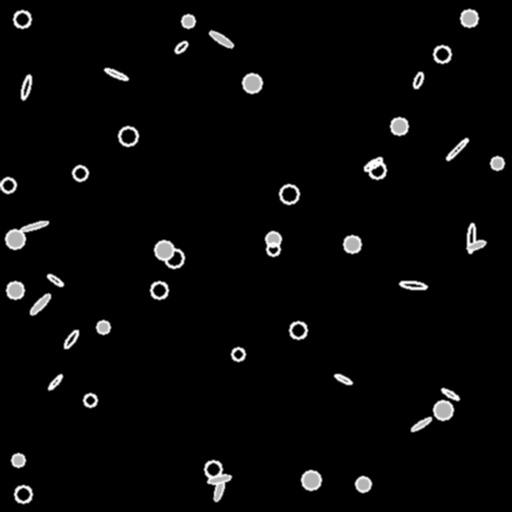pseudomonas: (28, 292, 52, 316), (445, 137, 469, 161), (208, 29, 234, 49), (19, 219, 49, 233), (62, 328, 80, 350), (19, 74, 33, 100), (410, 416, 432, 432), (212, 477, 226, 501), (104, 67, 128, 81), (363, 156, 383, 172), (47, 373, 63, 391), (399, 280, 427, 290), (333, 372, 353, 386), (173, 39, 189, 55), (441, 387, 459, 401), (46, 273, 64, 287), (467, 223, 475, 253), (207, 474, 231, 484), (412, 71, 424, 89), (467, 239, 485, 251)
synechocystis: (165, 249, 183, 267), (434, 401, 452, 419), (119, 127, 137, 145), (280, 185, 298, 203), (302, 471, 320, 489), (243, 74, 261, 92), (155, 241, 173, 259), (6, 230, 24, 248), (151, 282, 167, 298), (205, 461, 221, 477), (14, 11, 30, 27), (290, 322, 306, 338), (344, 236, 360, 252), (15, 486, 31, 502), (391, 118, 407, 134), (434, 46, 450, 62), (461, 10, 477, 26), (7, 282, 23, 298), (369, 162, 385, 178), (1, 178, 15, 192), (356, 477, 370, 491), (73, 166, 87, 180), (266, 232, 280, 246), (84, 394, 96, 406), (97, 321, 109, 333), (12, 454, 24, 466), (232, 348, 244, 360), (182, 15, 194, 27), (267, 243, 279, 255), (491, 157, 503, 169)
